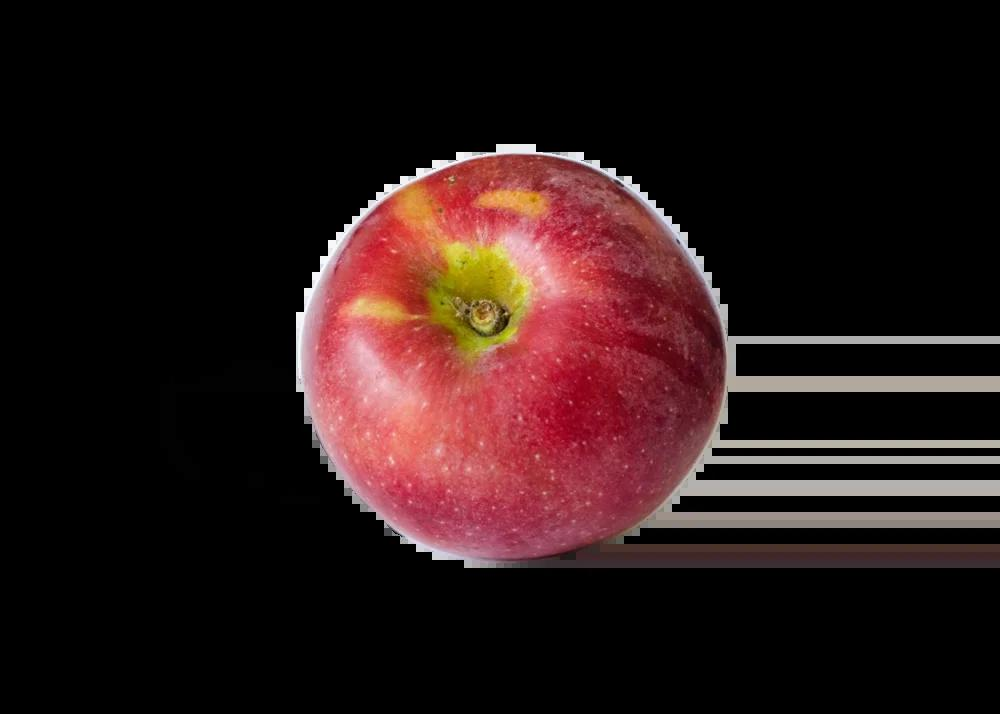apple: (304, 147, 731, 561)
